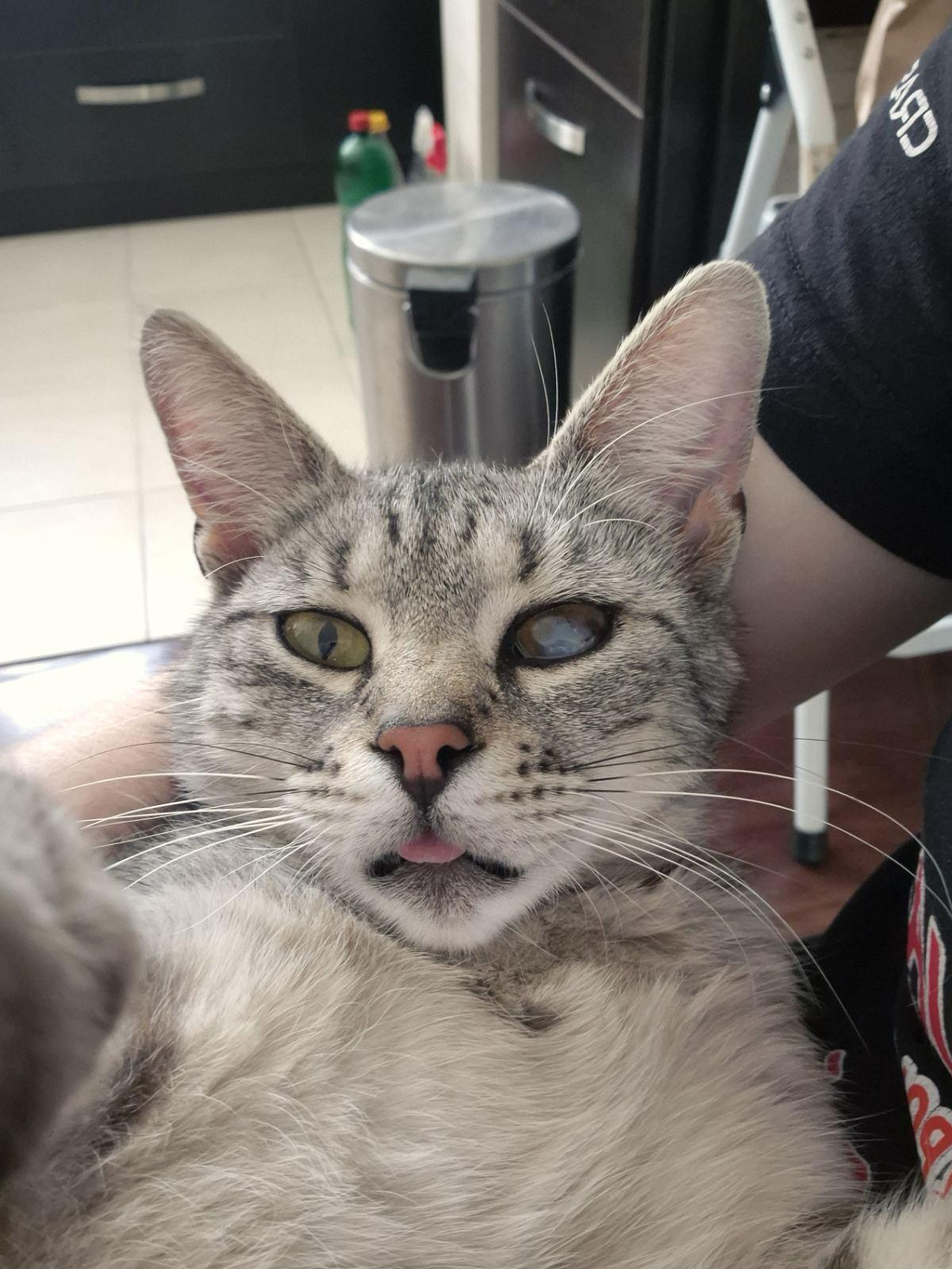macka: (0, 263, 952, 1269)
